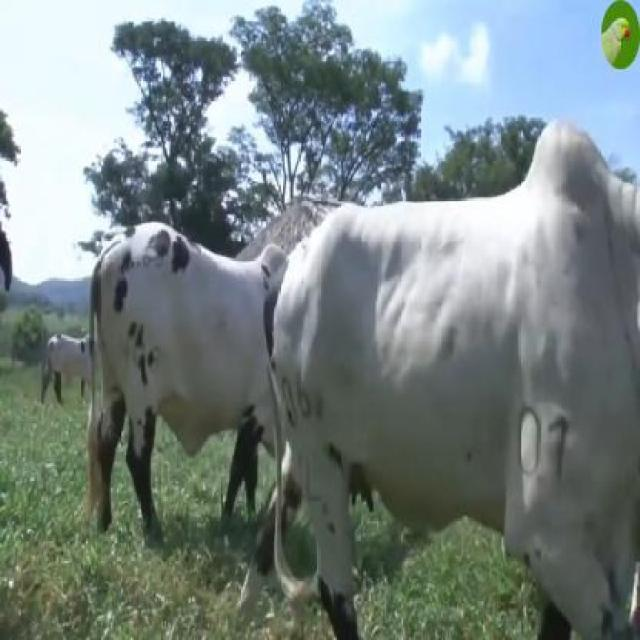Cow: (272, 119, 638, 638)
